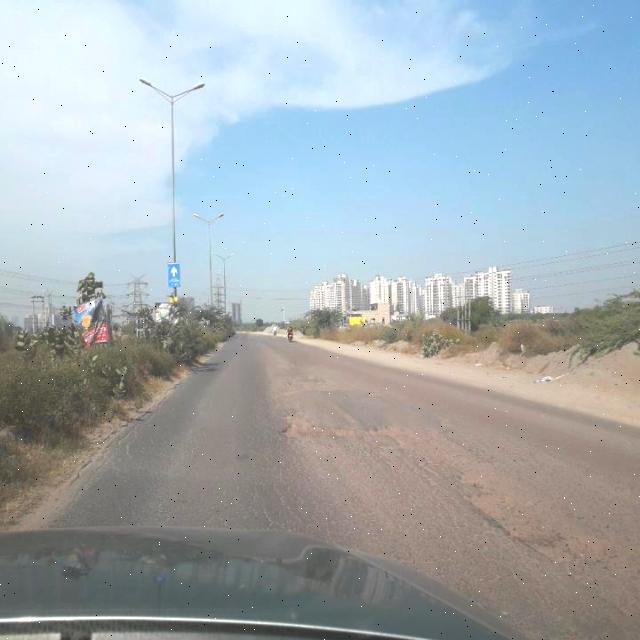D20: (381, 422, 633, 628), (97, 418, 374, 532)
D40: (383, 414, 632, 618), (267, 411, 373, 446), (282, 375, 354, 393), (364, 385, 398, 402)
